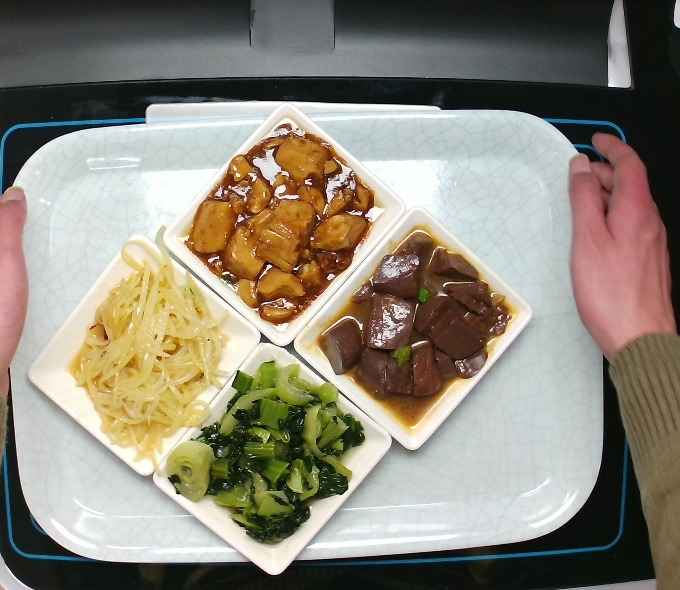wcq-MaPoDouFu: (181, 129, 383, 319)
wcq-NiuXue: (320, 226, 518, 421)
wcq-TuDouSi: (51, 260, 238, 462)
wcq-YouDongCai: (161, 359, 363, 549)
